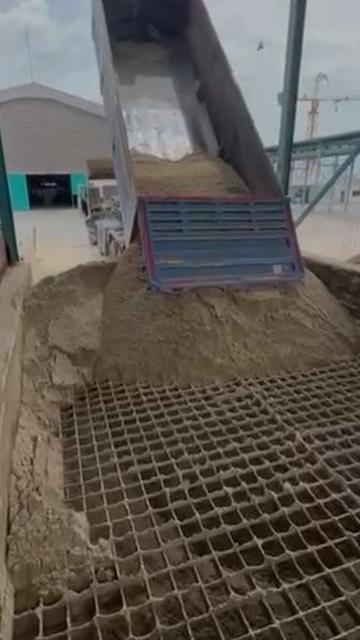sand: (9, 246, 360, 590), (132, 152, 247, 196), (357, 319, 360, 351)
